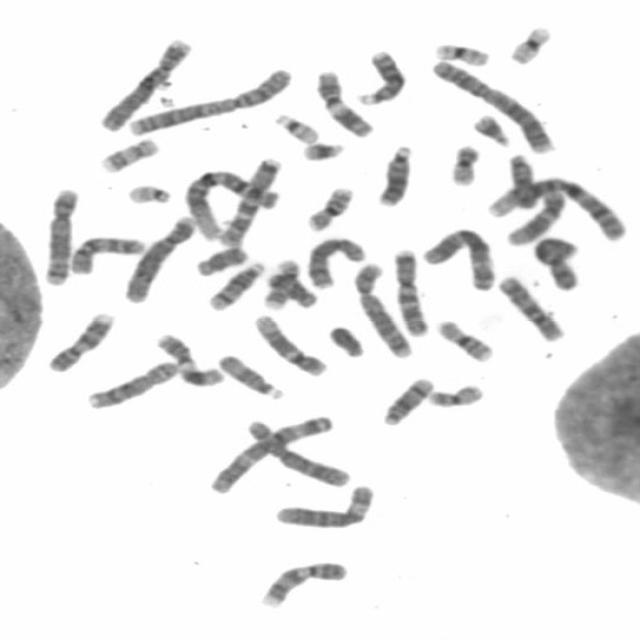A1: (482, 173, 628, 243), (179, 158, 284, 244)
A2: (428, 57, 556, 155), (123, 65, 294, 137)
A3: (204, 411, 336, 495), (418, 225, 498, 292)
B4: (94, 35, 194, 134), (120, 212, 197, 305)
B5: (351, 261, 415, 359), (39, 185, 81, 286)
C10: (494, 272, 567, 344), (65, 232, 147, 275)
C11: (312, 67, 376, 139), (152, 331, 224, 388)
C12: (250, 312, 328, 378), (502, 188, 567, 247)
C6: (243, 417, 351, 488), (269, 481, 378, 531)
C7: (216, 154, 283, 248), (389, 244, 430, 338)
C8: (81, 358, 180, 412), (303, 233, 369, 290)
C9: (255, 556, 351, 610), (43, 309, 118, 374)
D13: (354, 46, 406, 106), (372, 142, 415, 208)
D14: (203, 258, 265, 312), (378, 374, 435, 426)
D15: (216, 351, 285, 401), (506, 151, 538, 208)
E16: (434, 316, 495, 363), (302, 185, 356, 232)
E17: (97, 136, 160, 174), (263, 258, 303, 309)
E18: (192, 243, 250, 278), (263, 274, 318, 310)
F19: (504, 24, 553, 66), (430, 41, 490, 68)
F20: (446, 140, 482, 187), (424, 381, 484, 409)
G21: (469, 111, 512, 148), (297, 138, 347, 163)
G22: (270, 110, 320, 145), (123, 182, 172, 205)
X: (532, 234, 584, 293)
Y: (325, 322, 367, 358)
